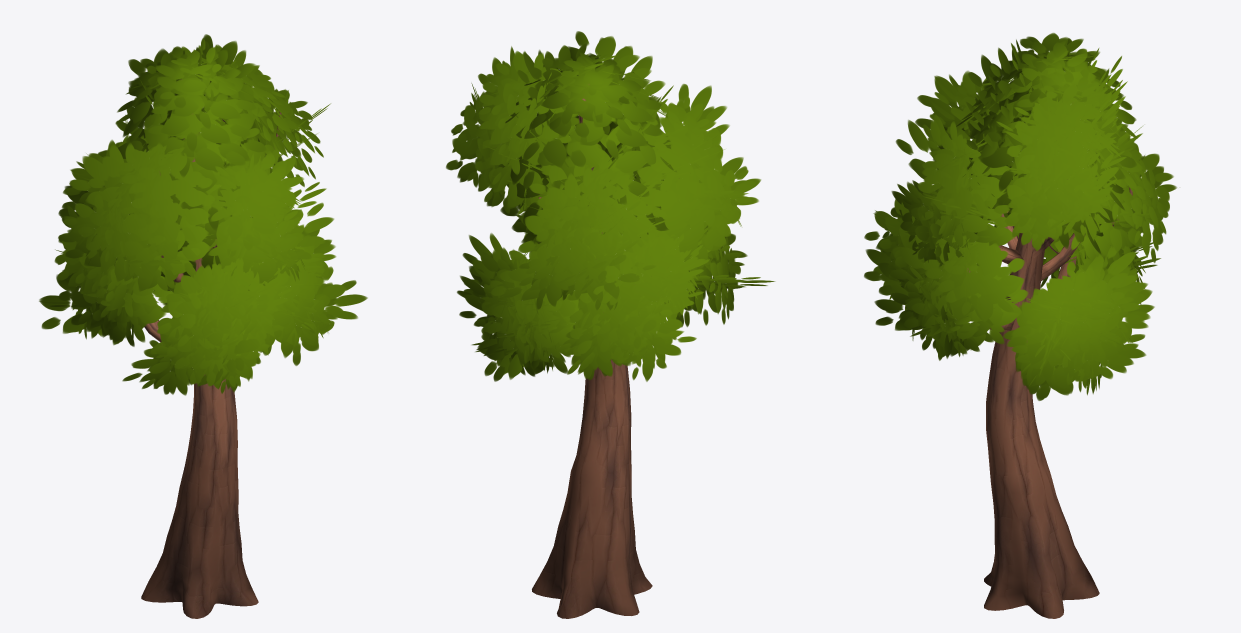
The model's file is tree-qztx0ahhcy-transformed.glb.
3 views of the same model, side by side, from view 1: azimuth 30°, elevation 25°; view 2: azimuth 150°, elevation 25°; view 3: azimuth 270°, elevation 25° (orthographic). The views are drawn at different scales.
Visible parts, largest first — view 1: CommonTree_1; view 2: CommonTree_1; view 3: CommonTree_1.
Part boxes in pixels (left/top/right/bottom): CommonTree_1: left=39, top=34, right=367, bottom=618; CommonTree_1: left=446, top=31, right=775, bottom=618; CommonTree_1: left=864, top=33, right=1176, bottom=618.
Bounding box in the file's own units: 4.31 × 7.26 × 4.58.
Materials: 2 (2 with a texture image).
